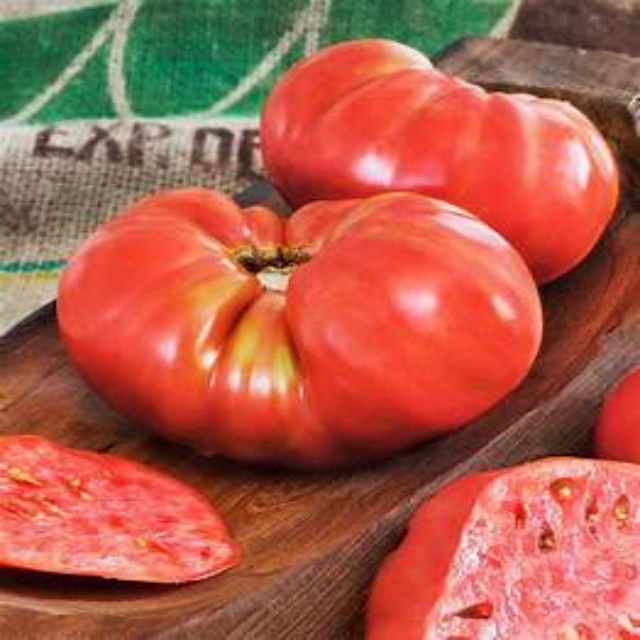tomato: (64, 192, 540, 477), (254, 31, 622, 289)
